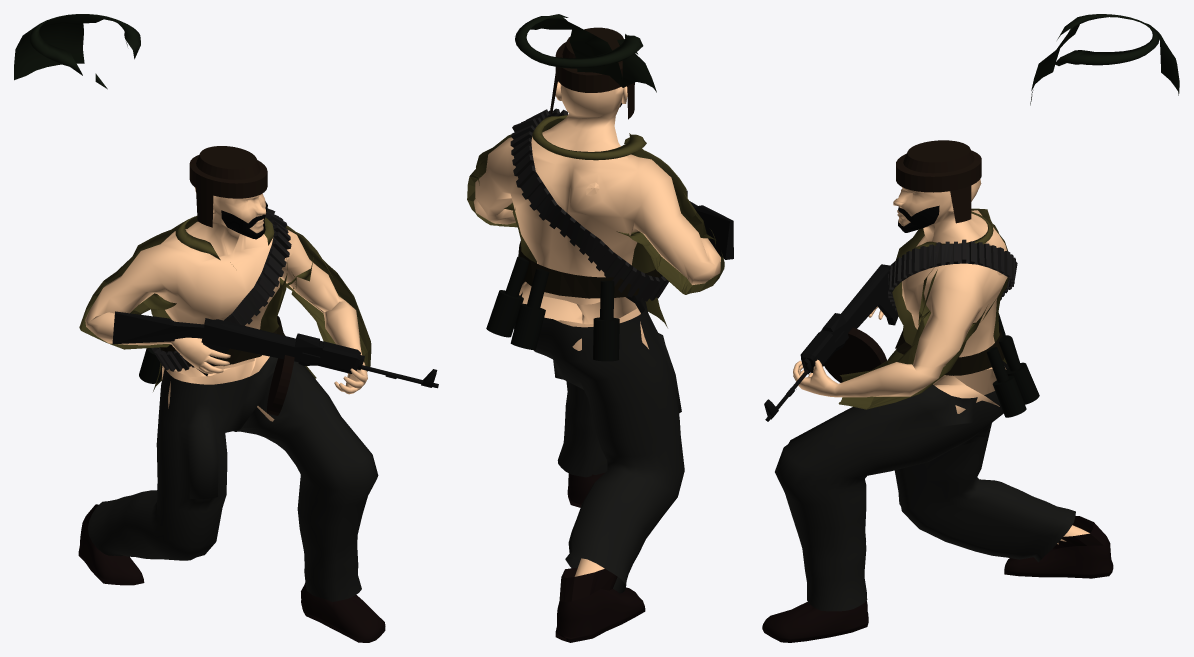
File: partisan01.obj
The picture shows the model from 3 angles, left to right: view 1: azimuth 30°, elevation 25°; view 2: azimuth 150°, elevation 25°; view 3: azimuth 270°, elevation 25°; orthographic projection. The views are drawn at different scales.
Parts seen in each view (by area): view 1: pants_Circle.002_pants, Human.000_body.000_skin_player, AK_Plane.004_aak47_body, jacket_Circle.003_jacket, shirt_Circle.000_shirt, hat_Circle_hat.001, bullet_belt_Circle.001_bullet_belt, shoe_left_Plane.001_shoes, shoe_right_Plane_shoes, Cylinder_Cylinder_skin_player.001, beard_body.001_beard, granade.002_Circle.007_grenade; view 2: pants_Circle.002_pants, Human.000_body.000_skin_player, jacket_Circle.003_jacket, bullet_belt_Circle.001_bullet_belt, shoe_right_Plane_shoes, shirt_Circle.000_shirt, hat_Circle_hat.001, belt_Circle.004_belt, granade.002_Circle.007_grenade, granade.001_Circle.006_grenade, granade_Circle.005_grenade, AK_Plane.004_aak47_body (+1 smaller); view 3: pants_Circle.002_pants, Human.000_body.000_skin_player, hat_Circle_hat.001, jacket_Circle.003_jacket, AK_Plane.004_aak47_body, shoe_right_Plane_shoes, bullet_belt_Circle.001_bullet_belt, shirt_Circle.000_shirt, shoe_left_Plane.001_shoes, Cylinder_Cylinder_skin_player.001, granade_Circle.005_grenade, granade.001_Circle.006_grenade (+2 smaller).
Boxes of the visible parts, box(x1,y1,x2,y2) form: pants_Circle.002_pants: box(88, 356, 378, 601); Human.000_body.000_skin_player: box(85, 187, 367, 421); AK_Plane.004_aak47_body: box(112, 311, 438, 388); jacket_Circle.003_jacket: box(79, 216, 371, 391); shirt_Circle.000_shirt: box(14, 14, 140, 89); hat_Circle_hat.001: box(189, 146, 267, 227); bullet_belt_Circle.001_bullet_belt: box(151, 208, 291, 371); shoe_left_Plane.001_shoes: box(301, 583, 385, 642); shoe_right_Plane_shoes: box(78, 504, 144, 585); Cylinder_Cylinder_skin_player.001: box(267, 355, 294, 415); beard_body.001_beard: box(221, 201, 267, 239); granade.002_Circle.007_grenade: box(139, 348, 162, 383); pants_Circle.002_pants: box(514, 280, 684, 593); Human.000_body.000_skin_player: box(473, 81, 720, 576); jacket_Circle.003_jacket: box(467, 115, 724, 327); bullet_belt_Circle.001_bullet_belt: box(510, 108, 668, 301); shoe_right_Plane_shoes: box(555, 568, 645, 642); shirt_Circle.000_shirt: box(515, 14, 656, 92); hat_Circle_hat.001: box(550, 27, 634, 119); belt_Circle.004_belt: box(518, 241, 660, 298); granade.002_Circle.007_grenade: box(593, 280, 619, 361); granade.001_Circle.006_grenade: box(510, 268, 549, 349); granade_Circle.005_grenade: box(486, 256, 529, 337); AK_Plane.004_aak47_body: box(686, 190, 733, 259); pants_Circle.002_pants: box(775, 361, 1075, 611); Human.000_body.000_skin_player: box(793, 179, 1089, 544); hat_Circle_hat.001: box(896, 140, 981, 223); jacket_Circle.003_jacket: box(838, 208, 1008, 409); AK_Plane.004_aak47_body: box(764, 261, 898, 421); shoe_right_Plane_shoes: box(1004, 516, 1113, 578); bullet_belt_Circle.001_bullet_belt: box(888, 239, 1017, 312); shirt_Circle.000_shirt: box(1030, 14, 1179, 105); shoe_left_Plane.001_shoes: box(762, 600, 868, 642); Cylinder_Cylinder_skin_player.001: box(824, 327, 886, 382); granade_Circle.005_grenade: box(986, 347, 1026, 417); granade.001_Circle.006_grenade: box(999, 336, 1039, 404).
Bounding box in the file's own units: 1.81 × 3.52 × 2.49.
